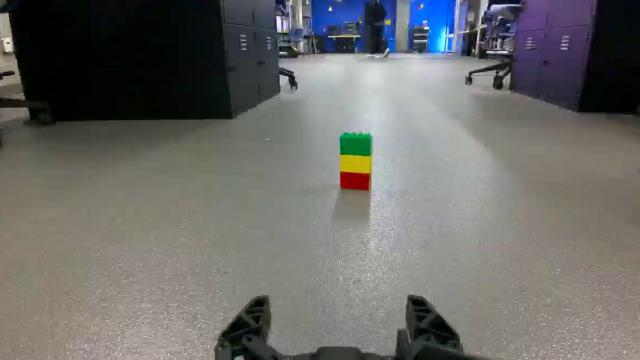lego: (341, 136, 370, 188)
